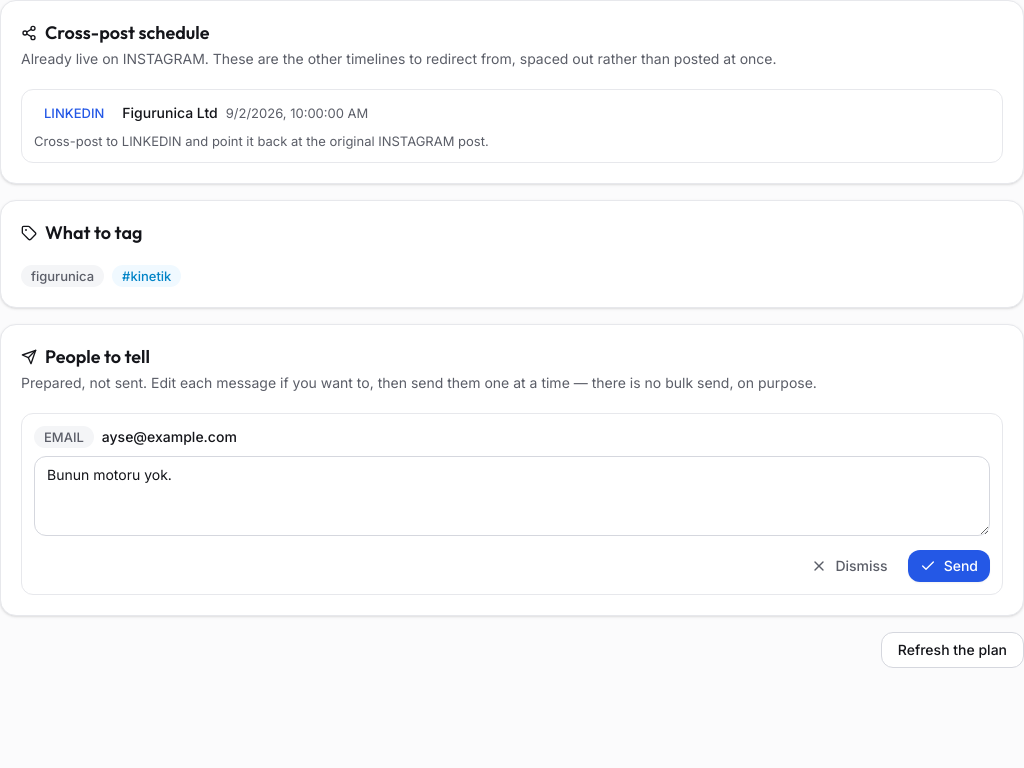
DistributionPanel — nothing sends itself › sends nothing until the confirmation is accepted
The width and height of the screenshot is (1024, 768).
Click the button "Send": (949, 566) x1=908 y1=550 x2=990 y2=582
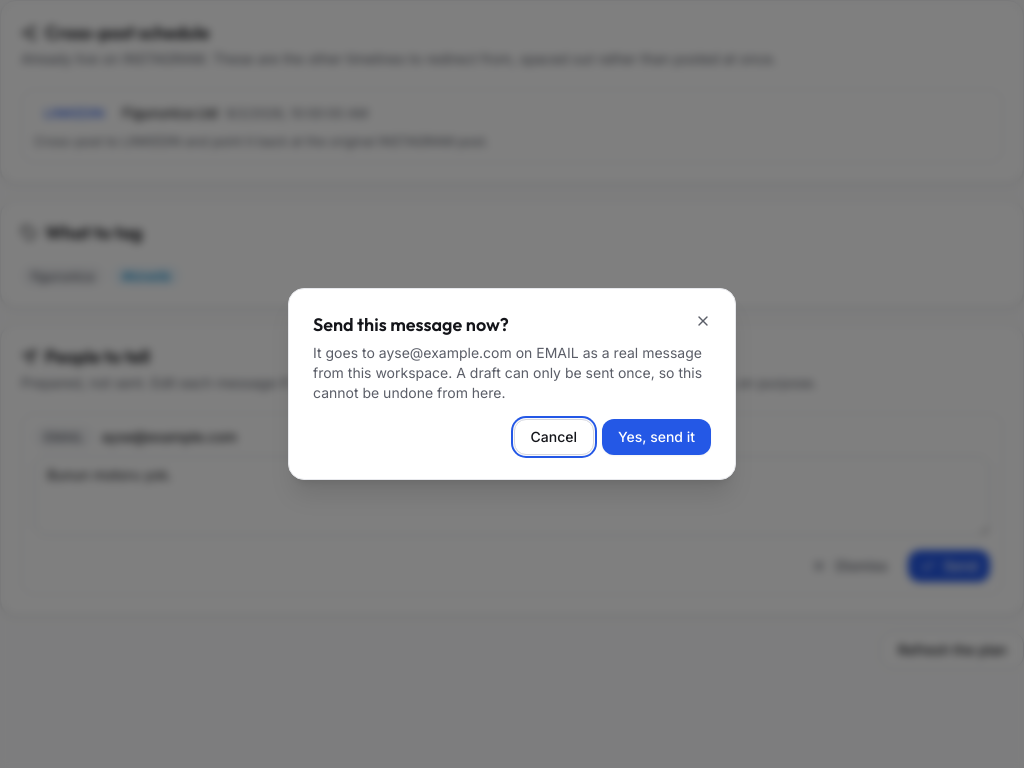
expect the text "EMAIL" is shown: met, box x1=313 y1=344 x2=702 y2=401
